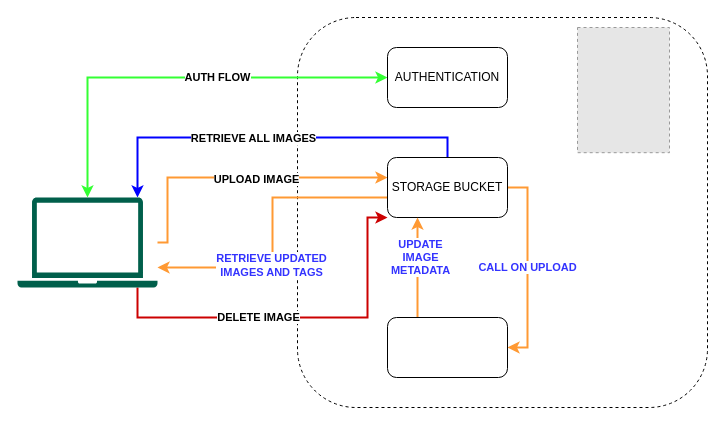
Image size: 725x425. Some labels were removed from this diagram. Grey dashed boxes stand in for pictures. The shapes that lost their labels are listed below. From the top down, each one's centre as x and y in pixels, then its label:
At [87,242]: "CLIENT".
At [447,347]: "FIREBASE FUNCTION (BACK-END)".
